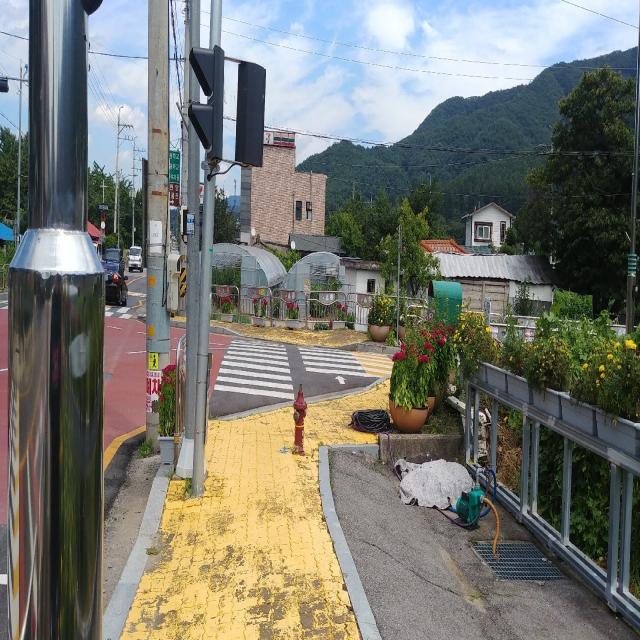횡단보도: (213, 339, 367, 401)
